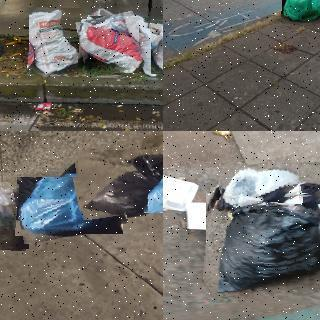Garbage: (203, 190, 320, 305), (15, 172, 126, 239), (76, 146, 163, 216), (77, 13, 142, 76), (28, 7, 87, 76), (218, 159, 301, 207), (0, 180, 30, 250), (281, 0, 320, 25)
